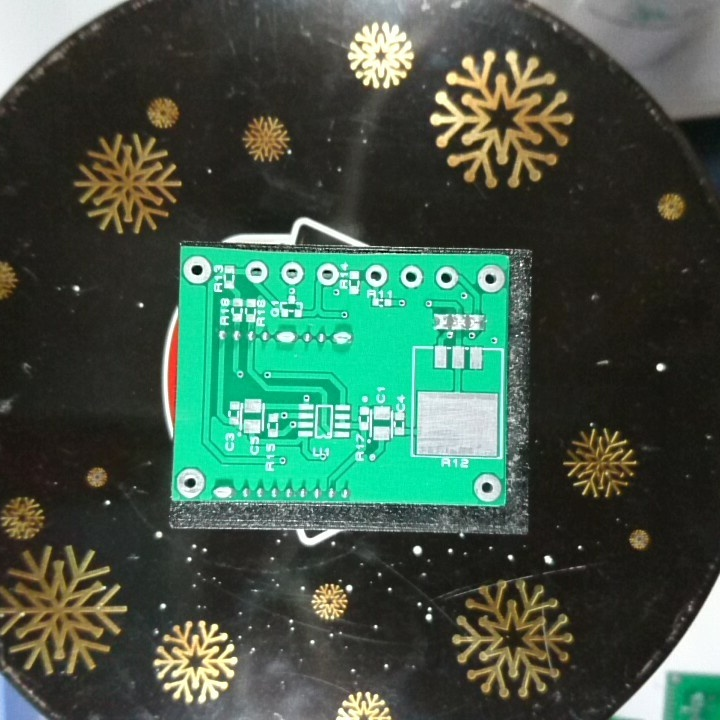F: (174, 466, 209, 500), (180, 253, 214, 287), (471, 472, 505, 505), (475, 262, 508, 295), (314, 260, 342, 289), (278, 258, 306, 287), (362, 262, 390, 289), (242, 258, 271, 284), (398, 264, 425, 291), (433, 264, 459, 292)
P: (328, 327, 353, 347), (273, 327, 299, 346), (211, 482, 236, 501)
